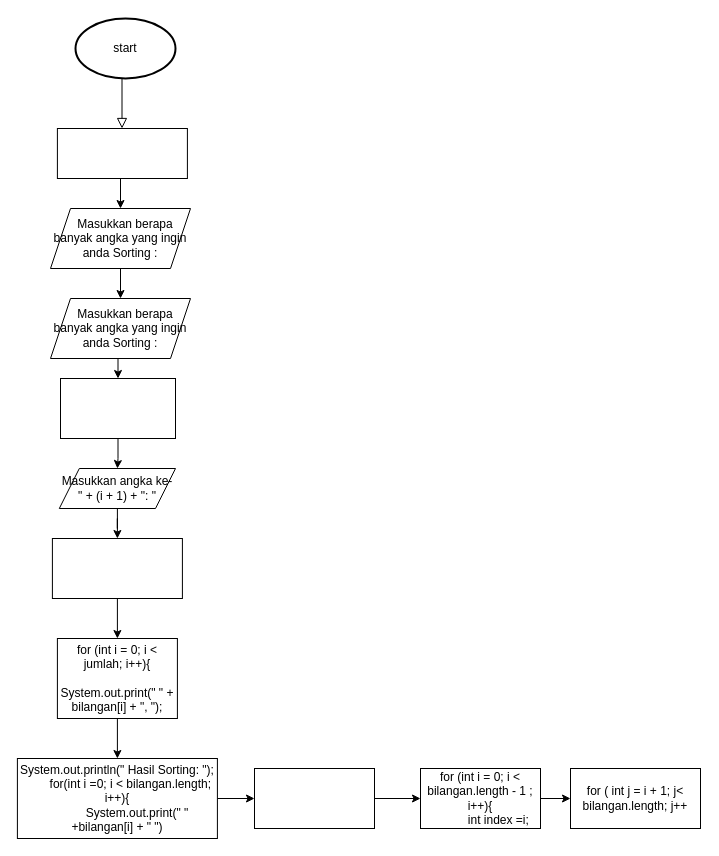
This 719x856 diagram has some shape labels left out. Here are the shapes that lost their labels. From the top down, the centre of each, then its label:
point 121,153: print == Program Sorting ==" + "\n" + "====================
point 118,408: for ( int i = 0 ; i < jumlah ; i++)
point 116,568: List angka yang akan di Sorting:
point 314,798: public static void selectionSort(int[] bilangan)
